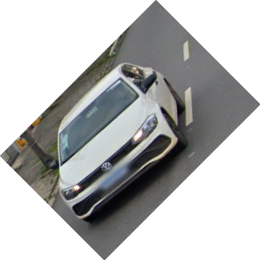car: (54, 59, 188, 223)
